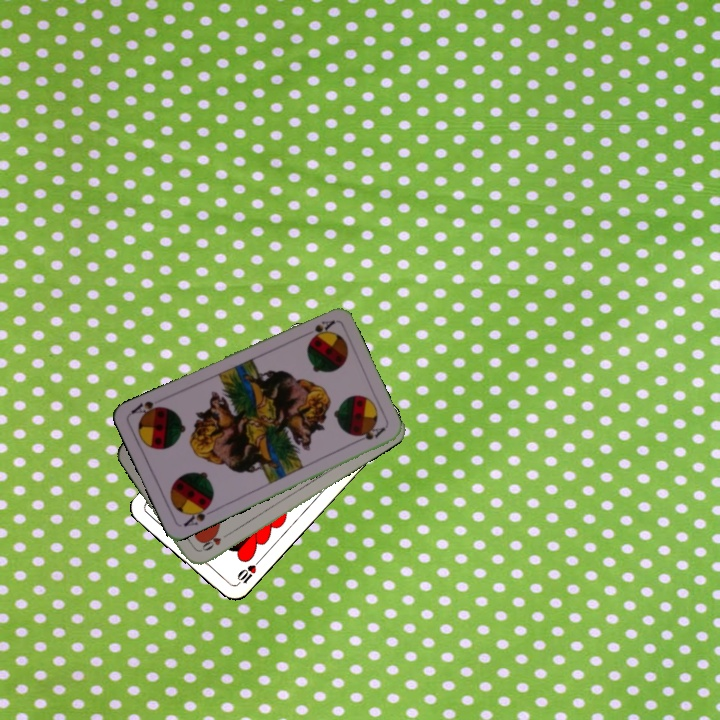H10: (231, 556, 263, 589)
HO: (195, 529, 232, 555)
SA: (179, 499, 217, 529), (299, 316, 338, 341)
